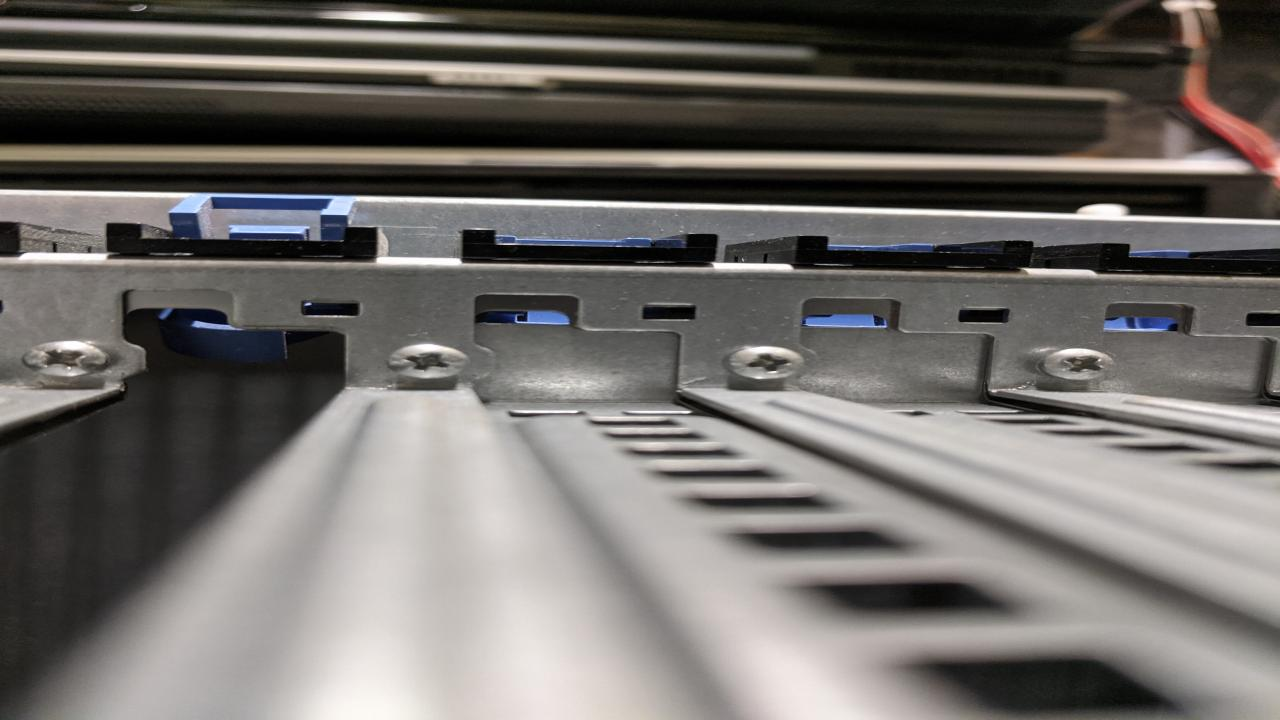CRS: (24, 334, 112, 380), (381, 337, 468, 380), (726, 342, 806, 382), (1031, 346, 1124, 380)
